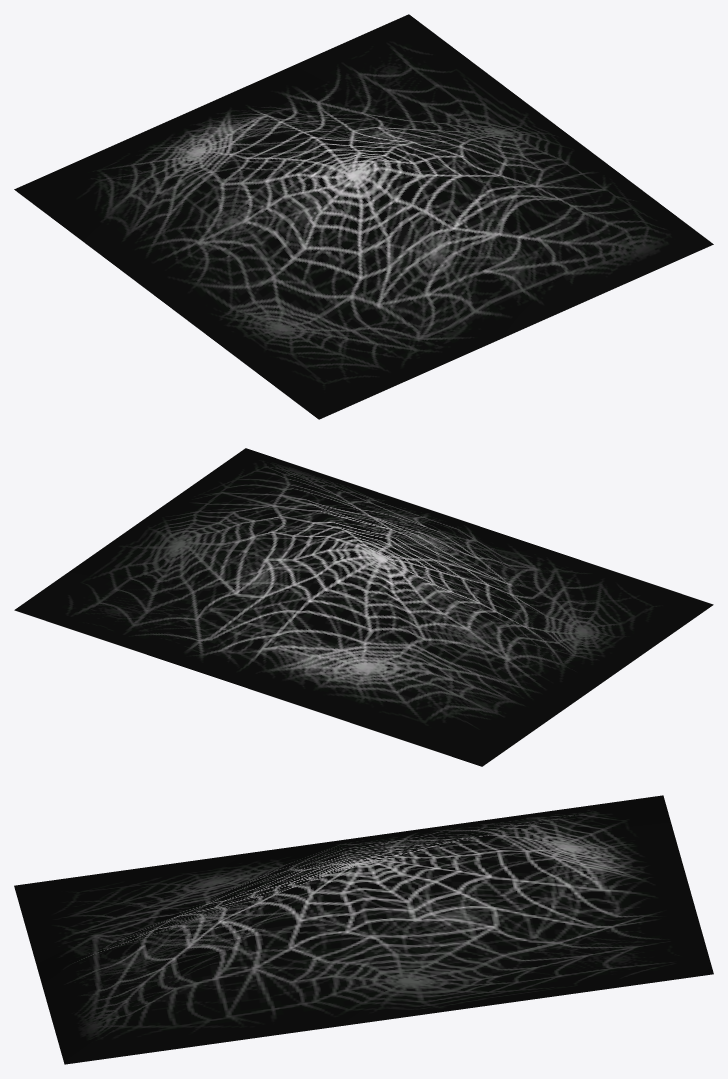
File: MIRKWOOD_PLANE44.fbx
3 views of the same model, one above another, from view 1: azimuth 30°, elevation 25°; view 2: azimuth 150°, elevation 25°; view 3: azimuth 270°, elevation 25° (orthographic). The views are drawn at different scales.
Visible parts, largest first — view 1: MIRKWOOD_PLANE44; view 2: MIRKWOOD_PLANE44; view 3: MIRKWOOD_PLANE44.
Boxes of the visible parts, x1,y1,x2,y2 form: MIRKWOOD_PLANE44: (14,14,713,419); MIRKWOOD_PLANE44: (14,448,713,766); MIRKWOOD_PLANE44: (14,795,713,1064).
Bounding box in the file's own units: 117751 × 26881 × 124427.
Materials: 1 (1 with a texture image).
